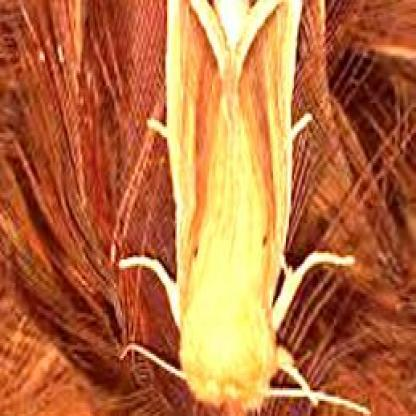stem-borer: (154, 0, 308, 412)
